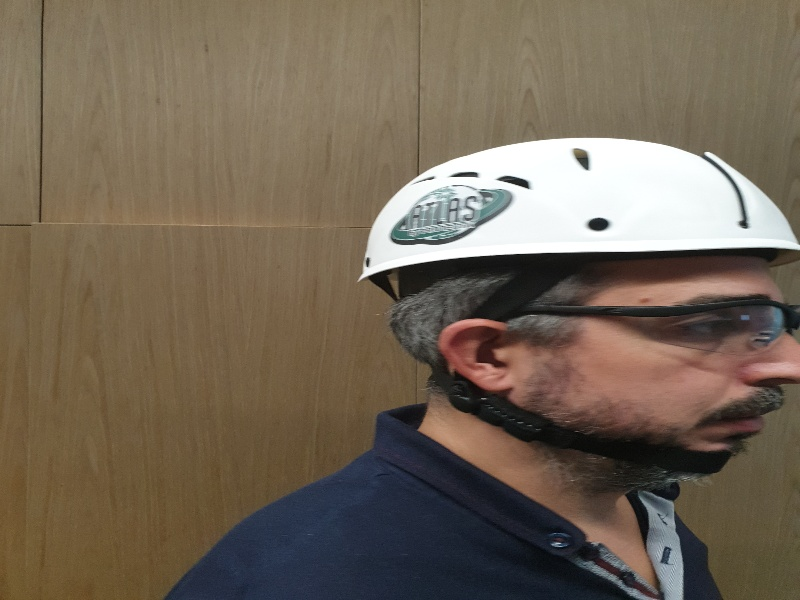Baret: (359, 135, 800, 271)
Gozluk: (503, 296, 800, 357)
